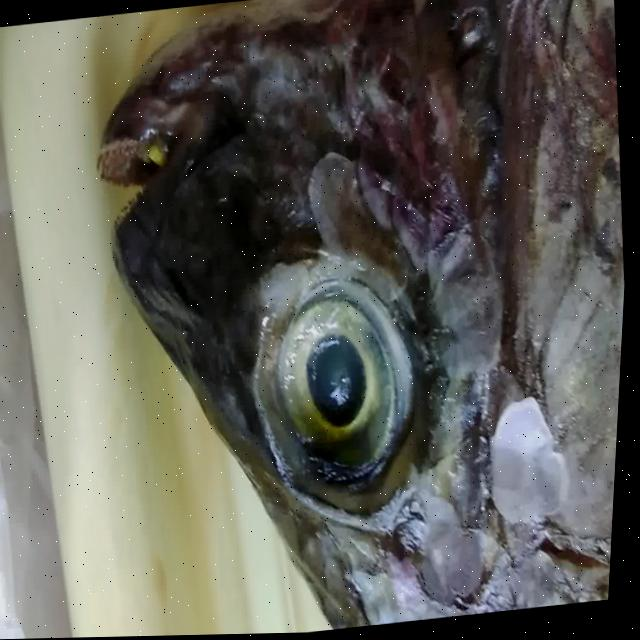Non-Fresh: (179, 98, 510, 582)
